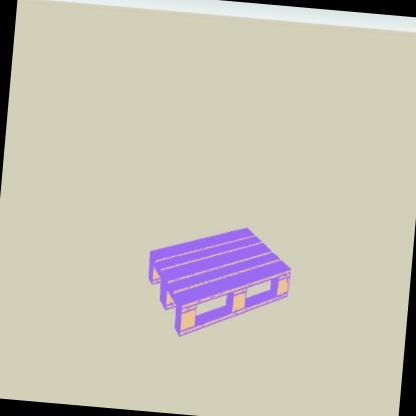BoxFace: (146, 220, 293, 347)
